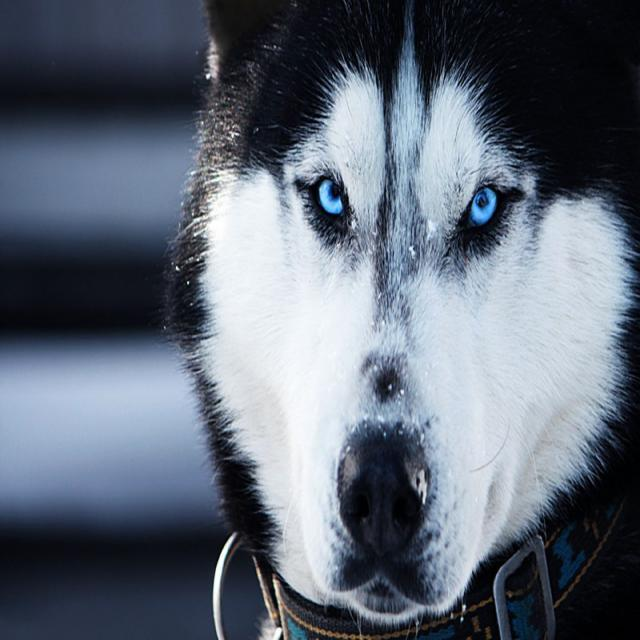eye: (312, 171, 351, 229)
